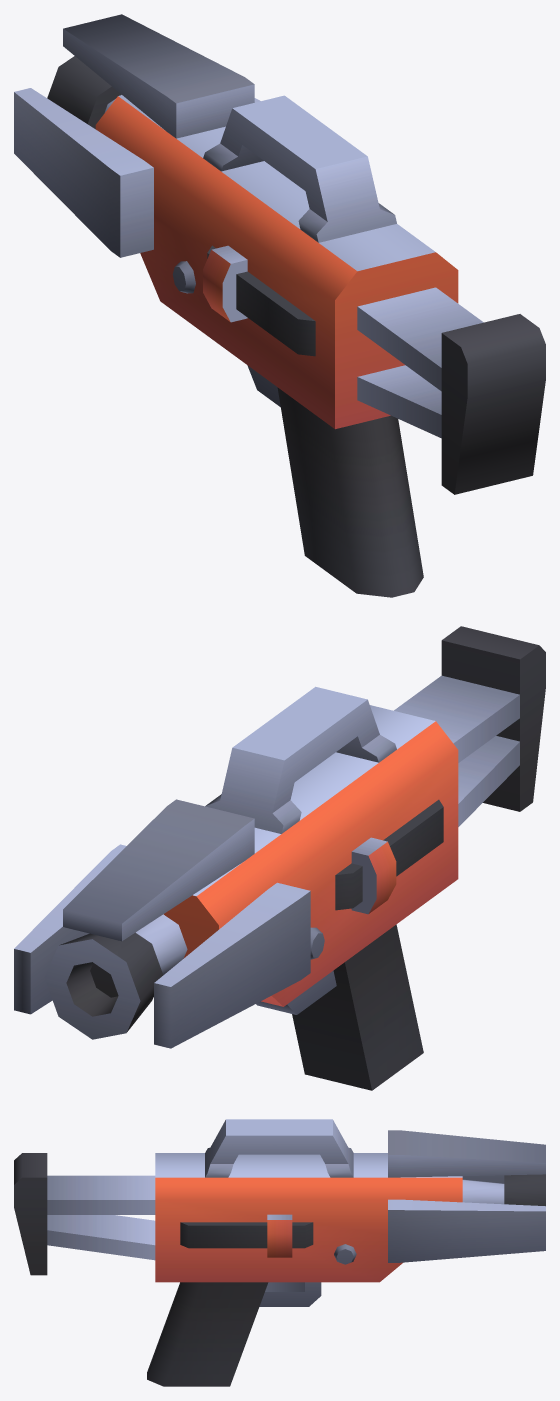
The model's file is kenney-blaster-blaster-n.glb.
The picture shows the model from 3 angles, top to bottom: view 1: azimuth 30°, elevation 25°; view 2: azimuth 150°, elevation 25°; view 3: azimuth 270°, elevation 25°; orthographic projection. The views are drawn at different scales.
Visible parts, largest first — view 1: blaster-n; view 2: blaster-n; view 3: blaster-n.
Part boxes in pixels (<box>): blaster-n: <box>14,14,545,597</box>; blaster-n: <box>14,626,545,1090</box>; blaster-n: <box>14,1119,545,1386</box>.
Size of the model in its own units: 0.17 by 0.33 by 0.6401.
Materials: 1 (1 with a texture image).
